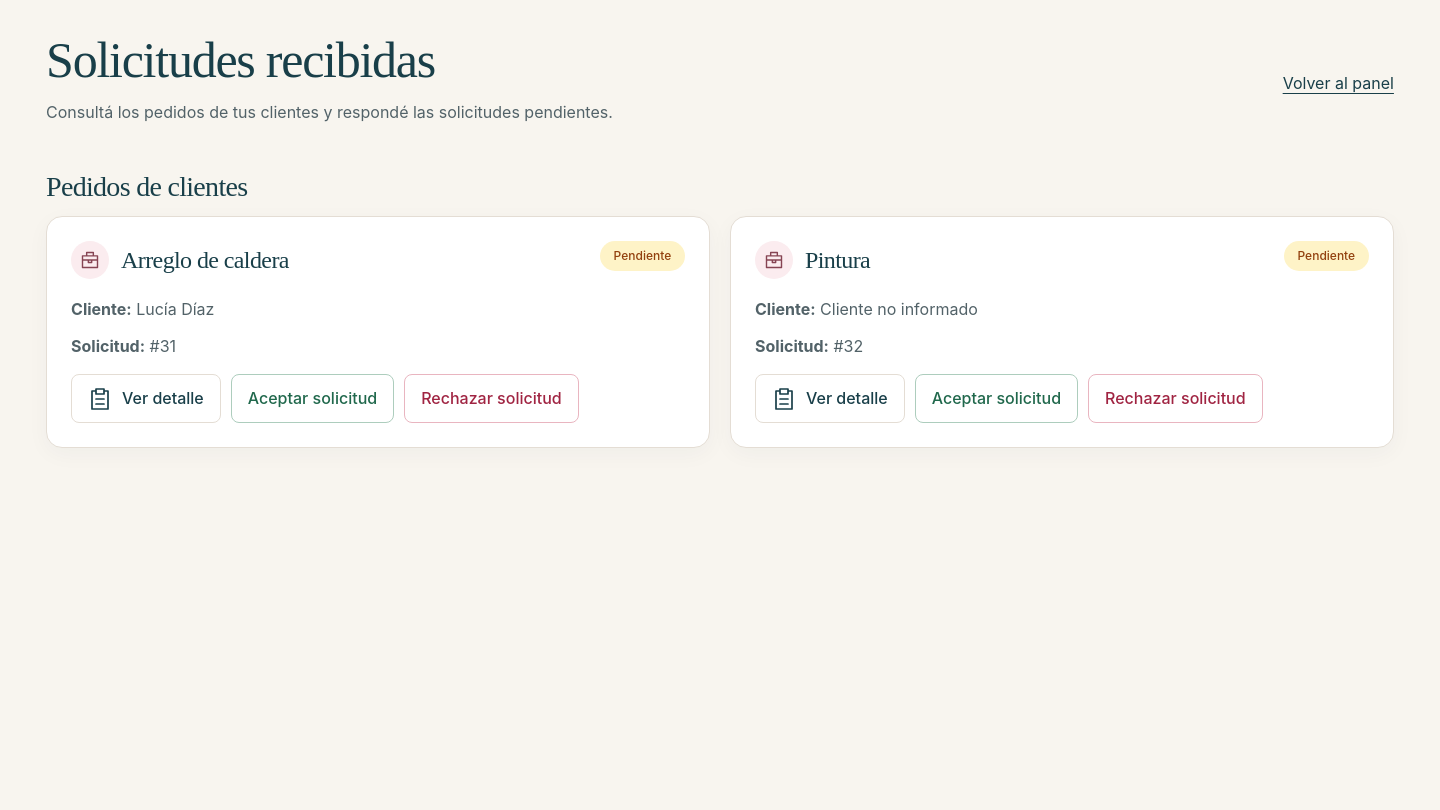
it: Solicitudes recibidas con formatos alternativos › muestra cliente en texto, cliente ausente y servicio como objeto
Expected: the text "Lucía Díaz" is shown, [136, 299, 214, 319]
Expected: the text "Cliente no informado" is shown, [820, 299, 978, 319]
Step 1. Click the button "Ver detalle" below "31" → (146, 399), box [71, 374, 221, 423]
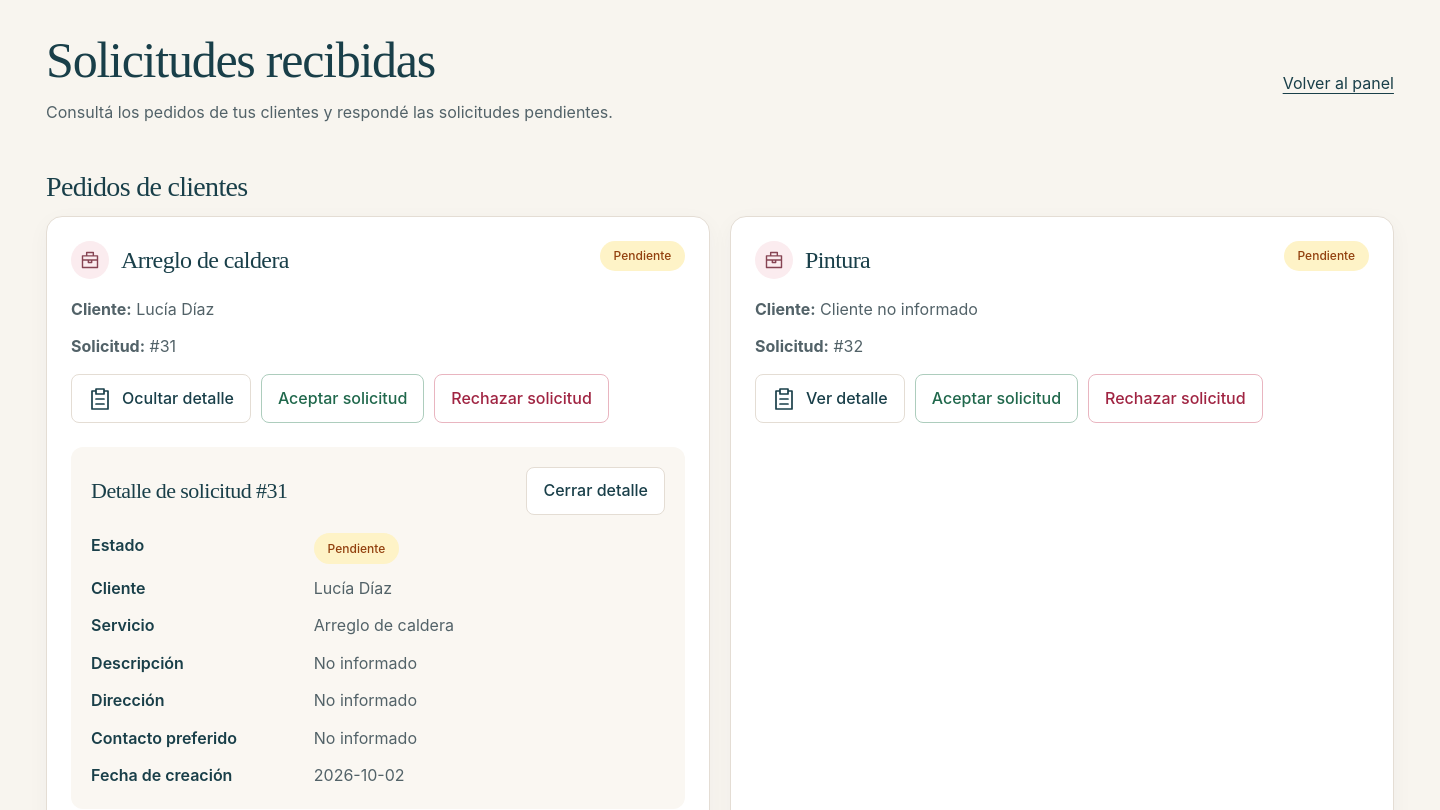
Expected: the text "Arreglo de caldera" is shown, [314, 615, 454, 635]
